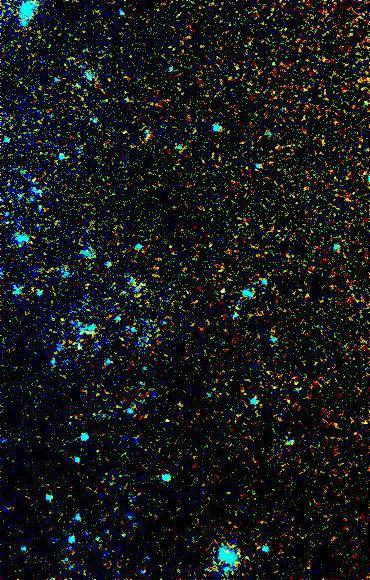star: (152, 409, 182, 439)
